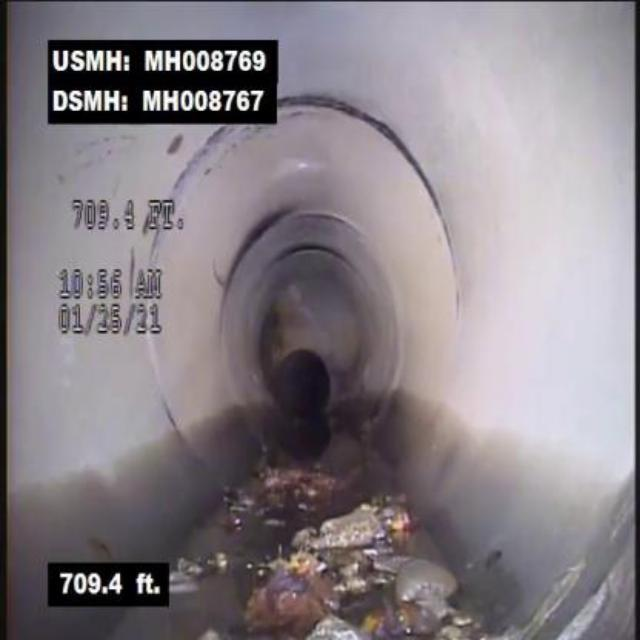Debris: (238, 494, 483, 638)
